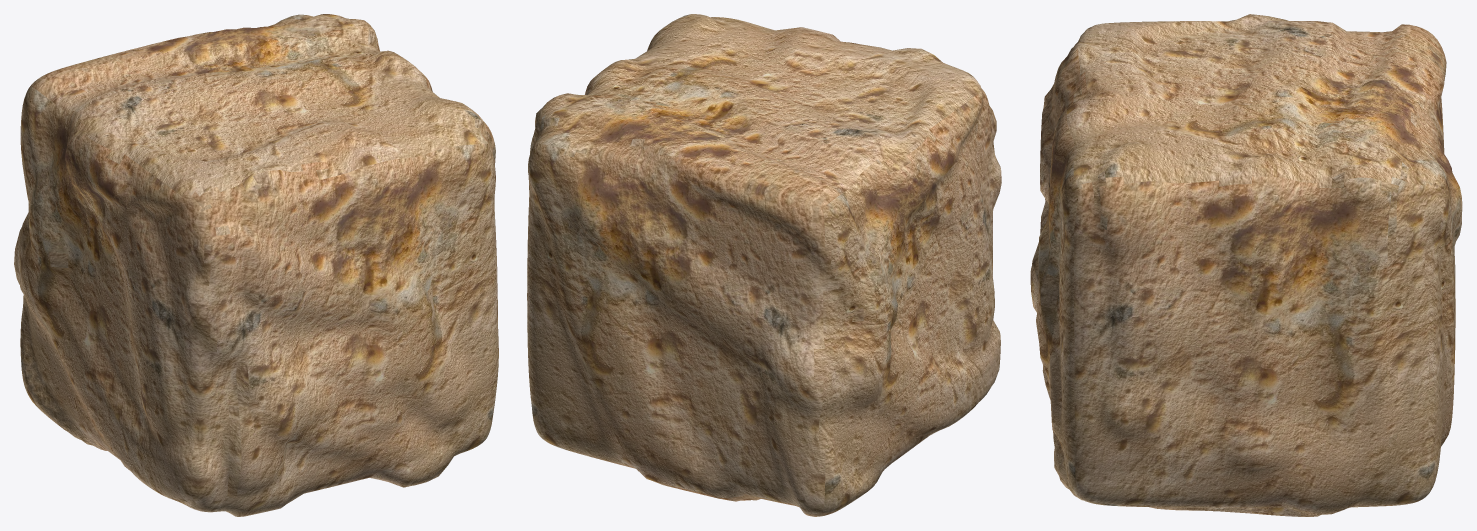
The model's file is squarestone.glb.
The picture shows the model from 3 angles, left to right: view 1: azimuth 30°, elevation 25°; view 2: azimuth 150°, elevation 25°; view 3: azimuth 270°, elevation 25°; orthographic projection. The views are drawn at different scales.
Parts seen in each view (by area): view 1: Cube; view 2: Cube; view 3: Cube.
Part boxes in pixels (x1,y1,x2,y2): Cube: (14,14,498,516); Cube: (527,14,1001,516); Cube: (1030,14,1462,516).
Size of the model in its own units: 2.15 by 2.1 by 2.21.
1 material, 1 textured.
